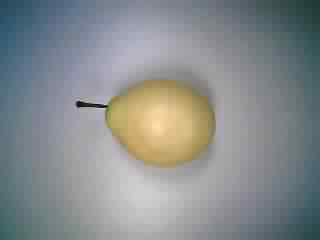pear: (72, 74, 225, 174)
